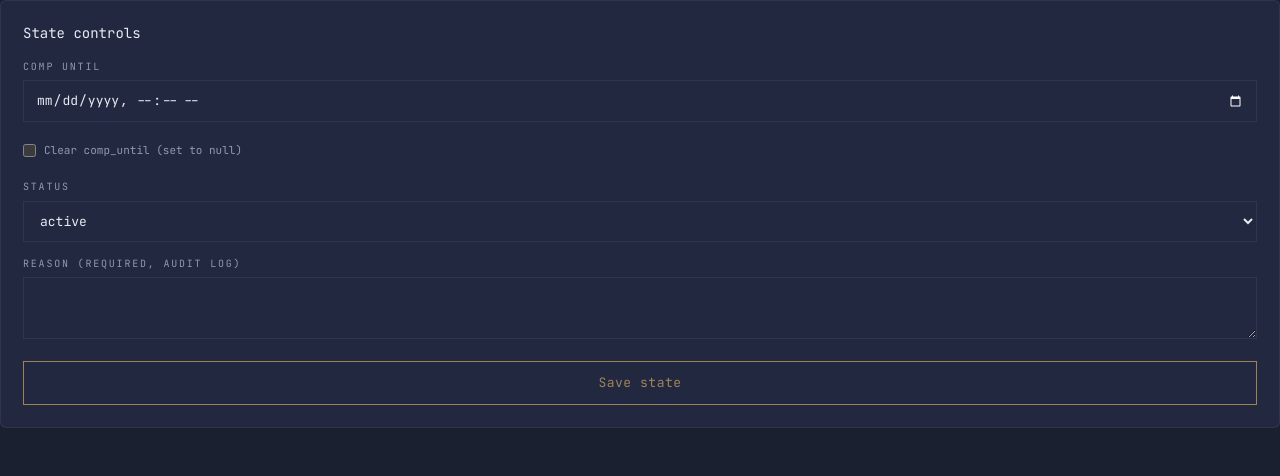
Test: StateOverrideCard › rejects save with no changes
The image size is (1280, 476).
Type "something" into the text box labelled "Reason (required, audit log)" at (640, 308), box 23,277 -> 1257,339
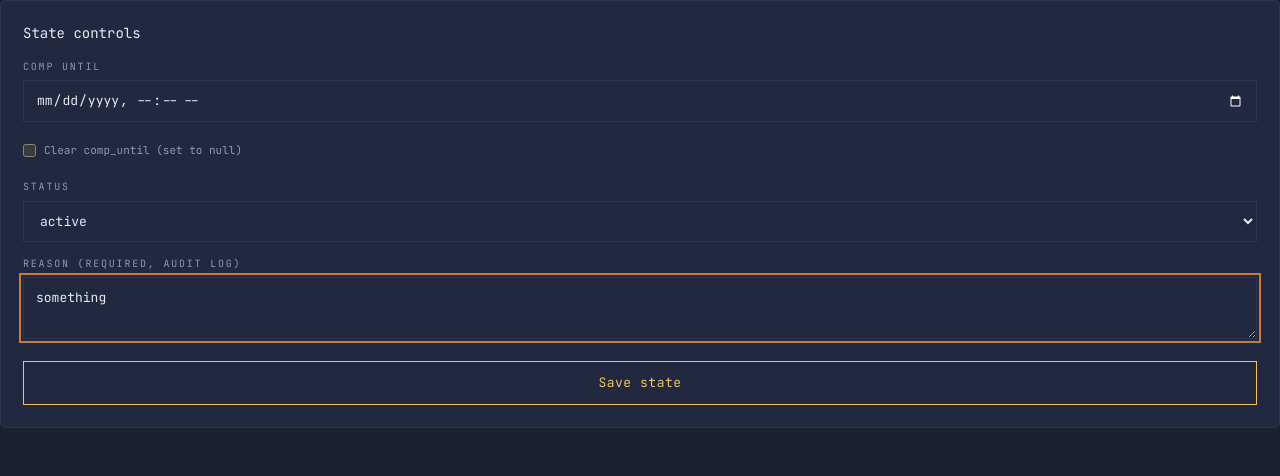
Click the button "Save state" at (640, 383), box 23,361 -> 1257,405
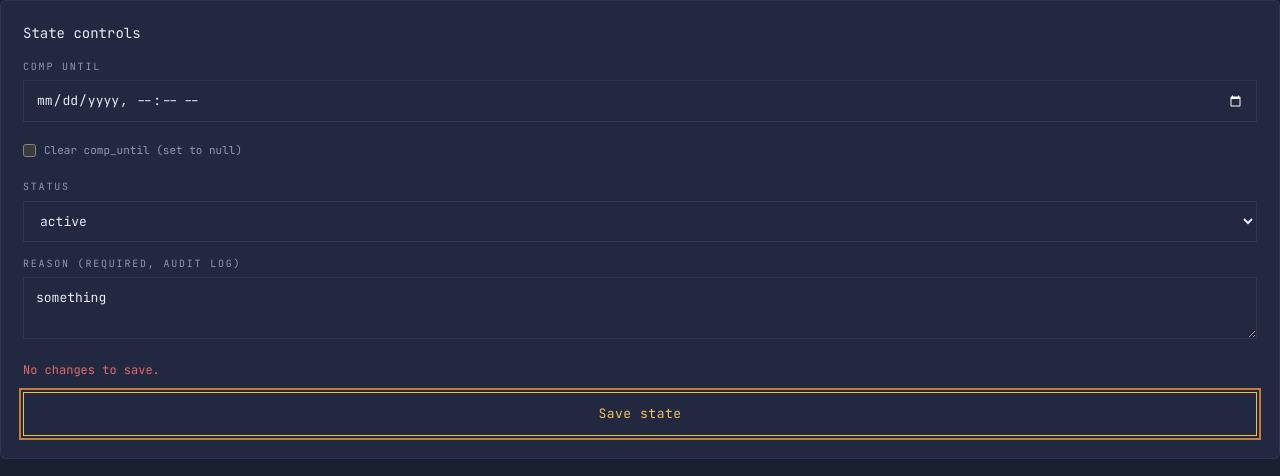
Expected: the message shows "No changes", 23,362 -> 160,378
